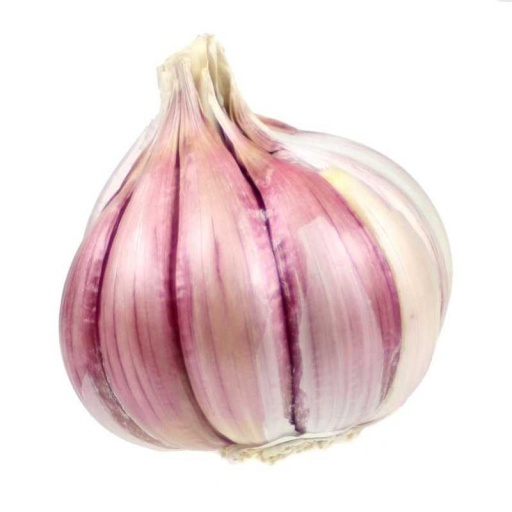Knoblauch: (59, 32, 453, 462)
